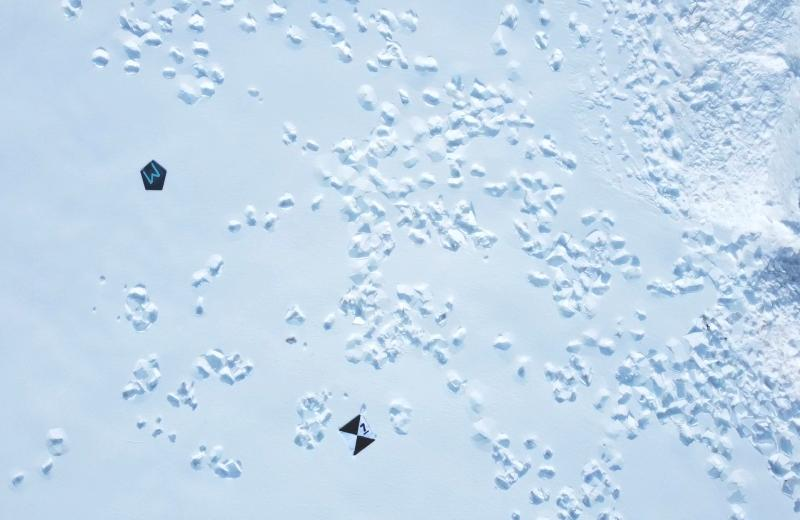Pentagon: (137, 158, 171, 197)
